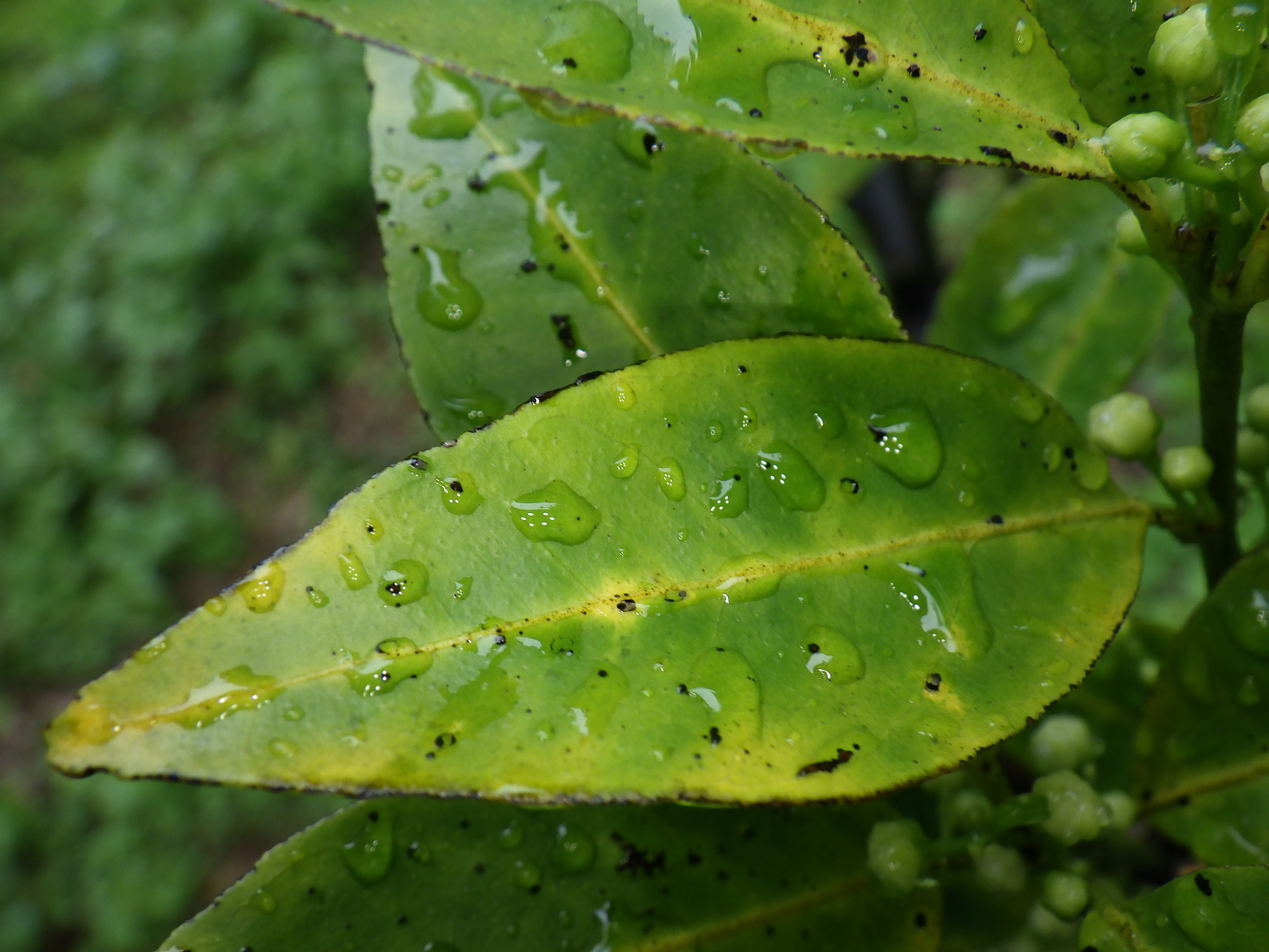Oily_Spot: (50, 336, 1151, 803)
